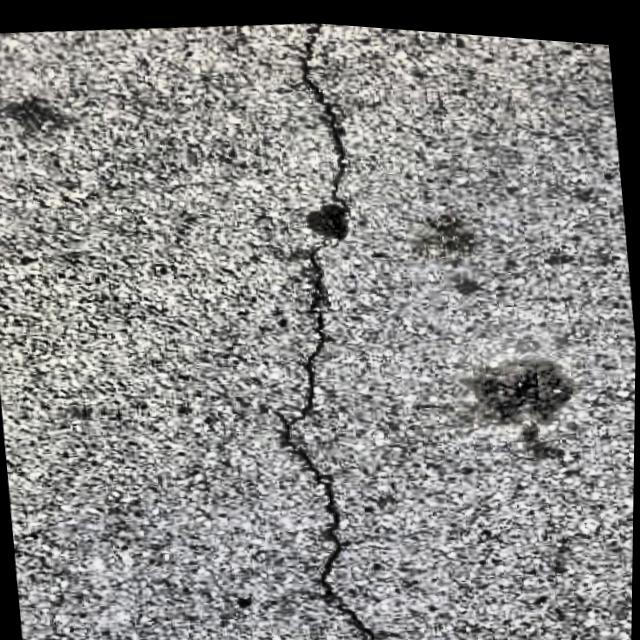cracks: (216, 22, 409, 640)
